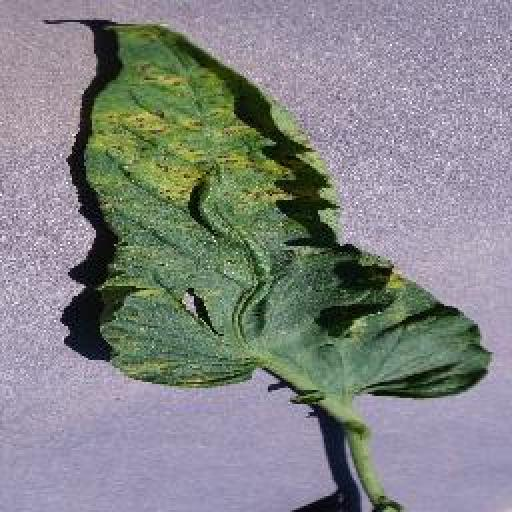Septoria: (56, 7, 494, 401)
